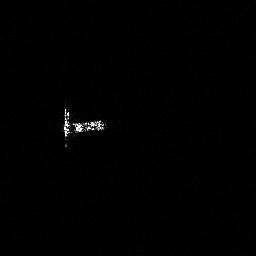ship: (63, 119, 105, 133)
